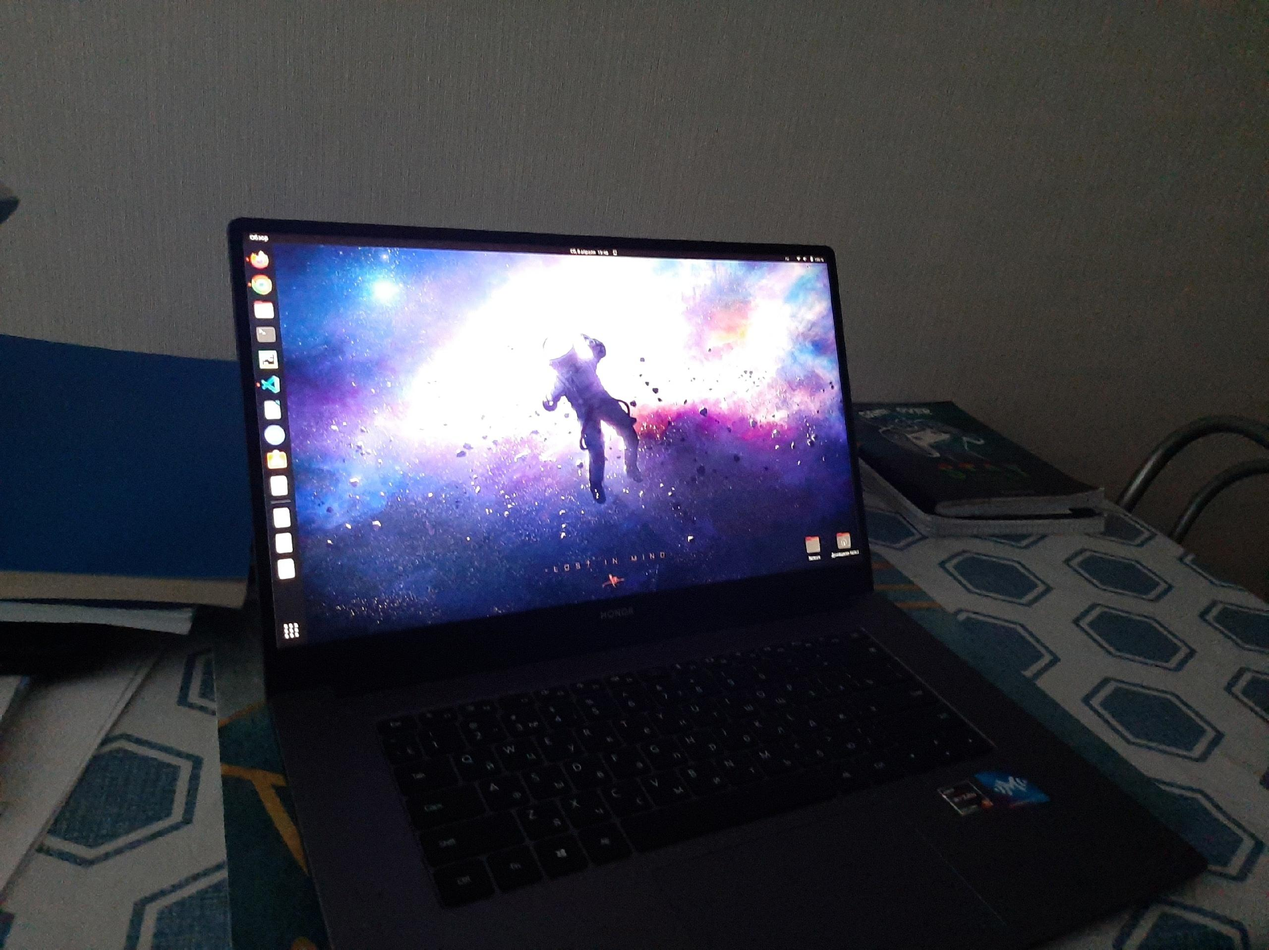monitor: (225, 212, 879, 679)
